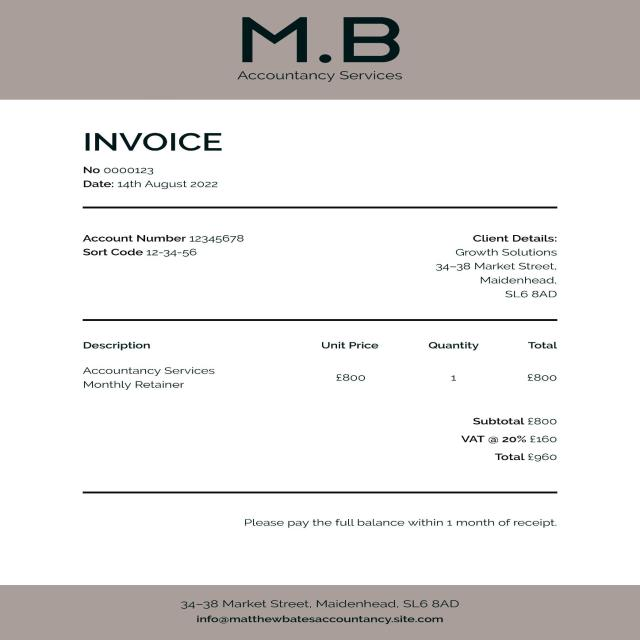paragraph: (231, 16, 406, 86), (178, 593, 467, 629), (424, 232, 566, 300), (453, 408, 568, 472), (241, 516, 559, 536), (82, 232, 249, 259), (81, 163, 226, 189), (68, 133, 238, 155)
table: (67, 329, 570, 394)
